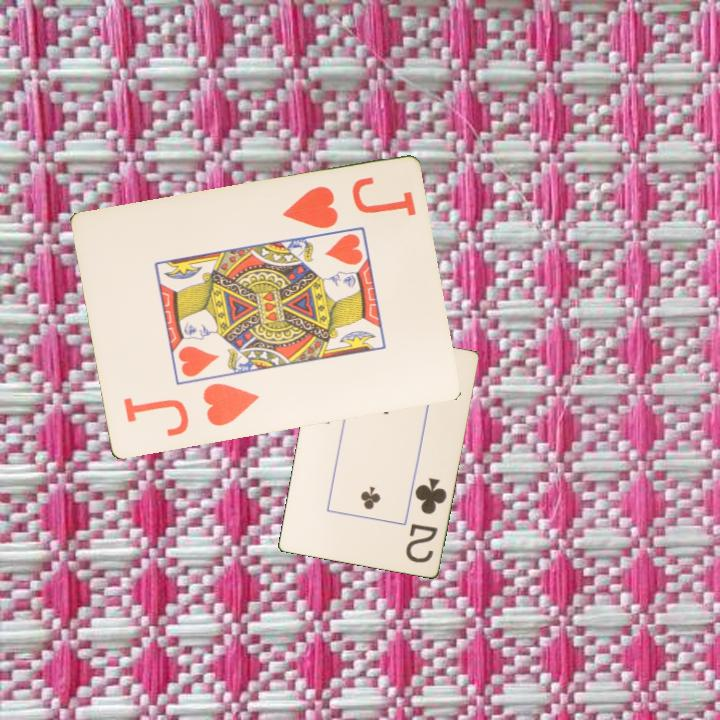2c: (402, 474, 449, 566)
Jh: (119, 380, 262, 440), (278, 183, 341, 233)
